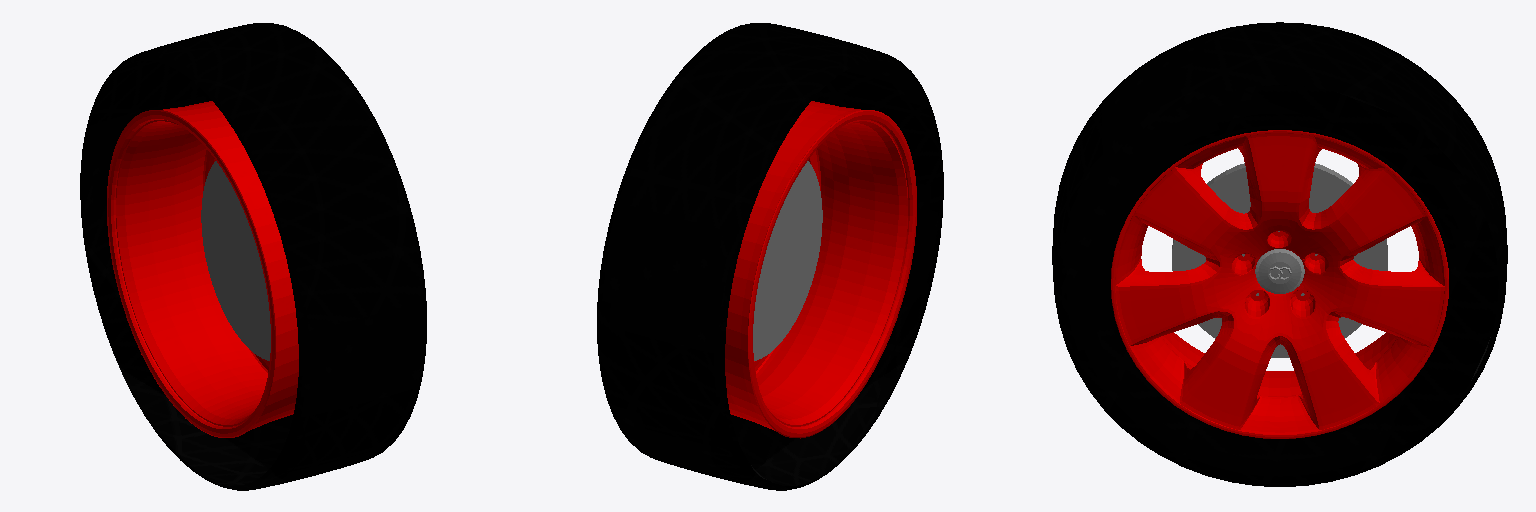
3 views of the same model, side by side, from view 1: azimuth 30°, elevation 25°; view 2: azimuth 150°, elevation 25°; view 3: azimuth 270°, elevation 25° (orthographic).
Visible parts, largest first — view 1: Audi_A6.001; view 2: Audi_A6.001; view 3: Audi_A6.001.
Boxes of the visible parts, box(x1,y1,x2,y2) form: Audi_A6.001: box(80, 23, 426, 490); Audi_A6.001: box(597, 23, 943, 490); Audi_A6.001: box(1052, 22, 1507, 486).
Bounding box in the file's own units: 3.95 × 11.17 × 11.17.
6 materials, 2 textured.